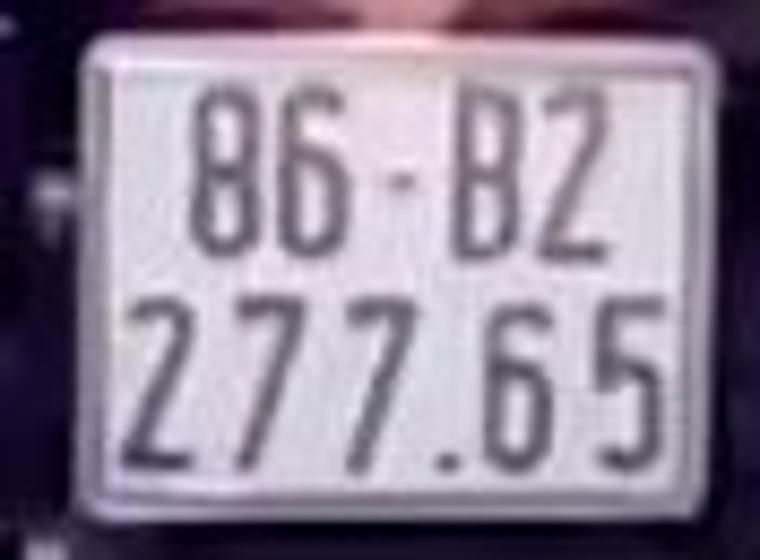-: (381, 169, 422, 195)
.: (431, 438, 468, 476)
2: (542, 78, 613, 270), (124, 296, 192, 480)
5: (589, 289, 678, 481)
6: (281, 78, 358, 262), (481, 302, 558, 479)
8: (188, 80, 270, 263)
B: (230, 288, 306, 474), (446, 82, 522, 267), (342, 292, 415, 475)
